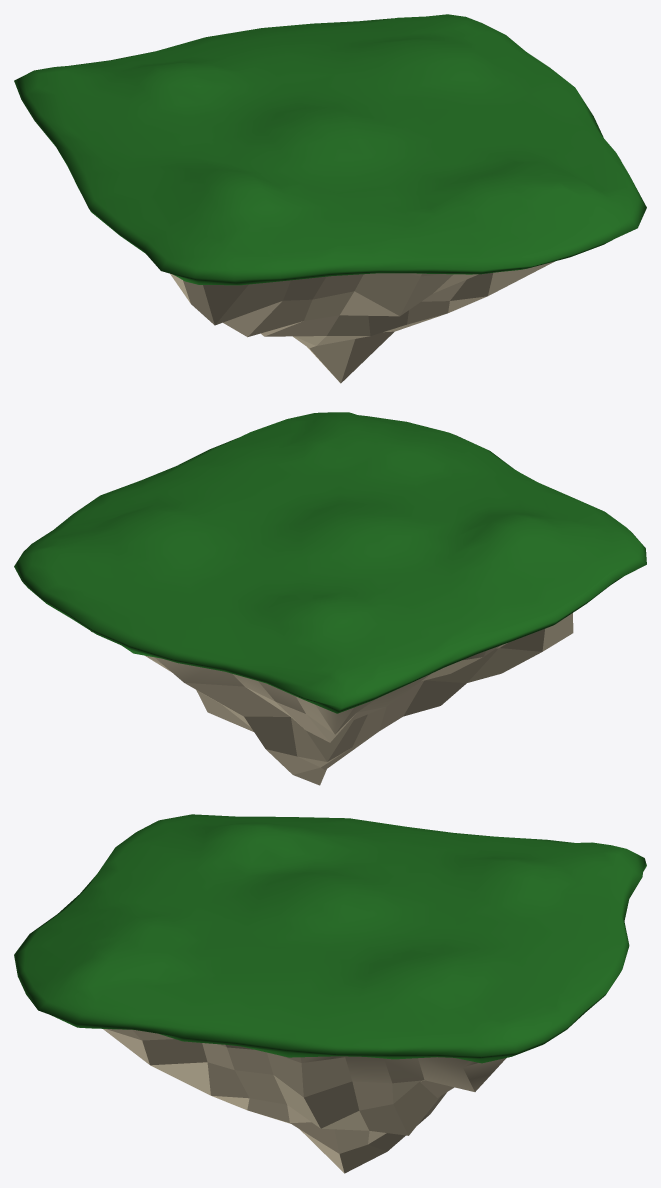
File: SM_Island6.fbx
3 renders of one model, top to bottom at view 1: azimuth 30°, elevation 25°; view 2: azimuth 150°, elevation 25°; view 3: azimuth 270°, elevation 25°, orthographic. The views are drawn at different scales.
Visible parts, largest first — view 1: polySurface413, polySurface412; view 2: polySurface413, polySurface412; view 3: polySurface413, polySurface412.
Part boxes in pixels (box(x1,y1,x2,y2)): polySurface413: box(14, 14, 646, 285); polySurface412: box(170, 261, 554, 383); polySurface413: box(14, 412, 646, 713); polySurface412: box(91, 613, 573, 785); polySurface413: box(14, 814, 646, 1063); polySurface412: box(103, 1029, 506, 1173).
Bounding box in the file's own units: 153 × 81.03 × 171.
